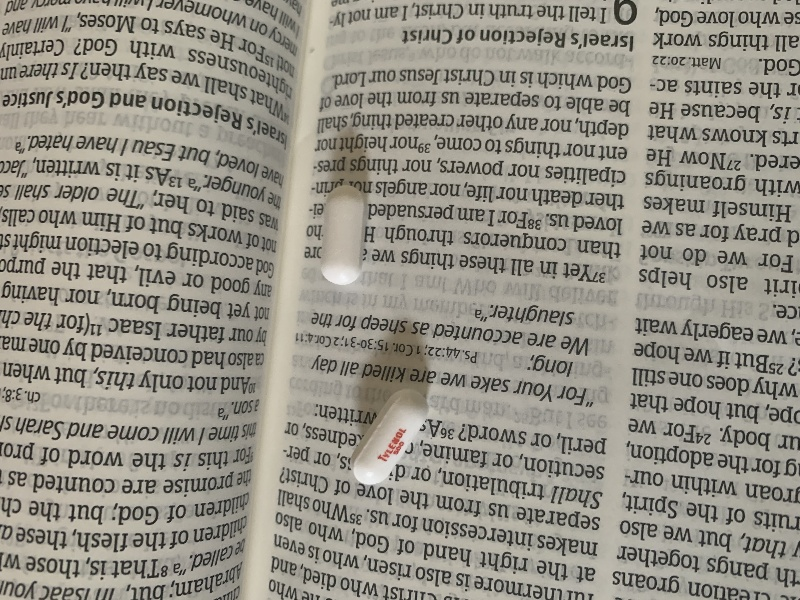Tylenol: (347, 387, 443, 488), (316, 183, 374, 291)
